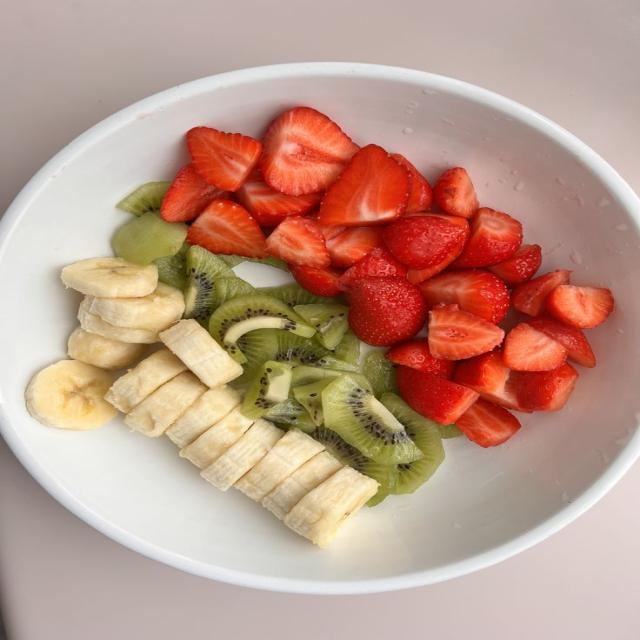banana slice: (283, 467, 379, 548), (236, 429, 324, 501), (26, 361, 117, 429), (201, 419, 284, 490), (160, 320, 242, 387), (262, 452, 342, 519), (125, 372, 207, 437), (105, 349, 186, 413), (88, 283, 184, 331), (166, 385, 240, 447), (180, 406, 253, 468), (61, 258, 158, 297), (78, 297, 159, 343), (68, 327, 146, 369)
kiwi: (322, 373, 422, 464), (210, 292, 315, 363), (383, 394, 443, 494), (237, 329, 332, 382), (183, 246, 234, 328), (112, 212, 186, 263), (241, 361, 290, 418), (295, 304, 348, 350), (258, 282, 338, 309), (294, 378, 334, 425), (116, 181, 170, 215), (265, 396, 315, 432), (363, 351, 397, 398), (154, 243, 186, 289), (336, 329, 360, 365)
strawberry sliced: (258, 106, 358, 195), (319, 144, 410, 226), (350, 277, 426, 346), (418, 269, 510, 324), (236, 171, 322, 227), (453, 349, 527, 412), (187, 127, 261, 190), (187, 200, 266, 258), (397, 366, 477, 423), (383, 216, 462, 269), (452, 207, 521, 267), (428, 305, 503, 359), (162, 163, 228, 222), (266, 216, 329, 267), (456, 399, 520, 447), (503, 323, 566, 371), (545, 284, 613, 328), (338, 247, 406, 290), (517, 362, 577, 410), (433, 167, 479, 217), (327, 227, 382, 267), (488, 245, 539, 287), (290, 264, 342, 296)
